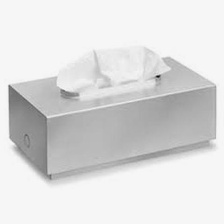book: (2, 50, 222, 184)
tissue: (51, 39, 175, 104)
